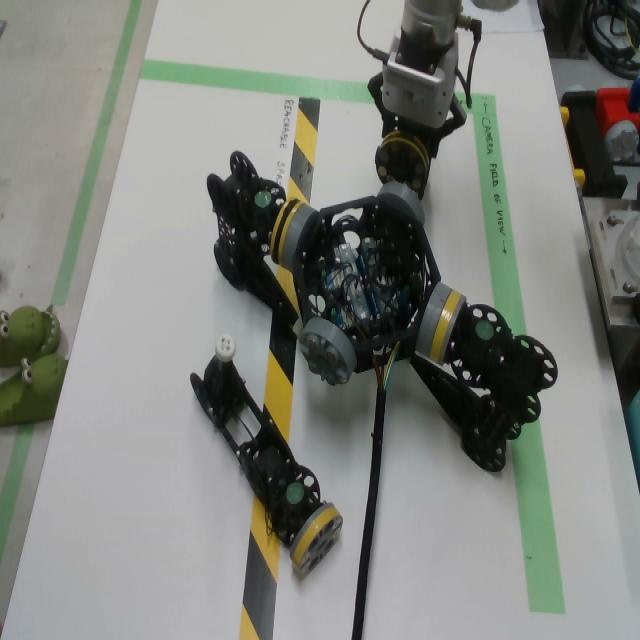body: (293, 196, 441, 375)
body_connector: (299, 317, 356, 387), (415, 283, 452, 356), (281, 204, 318, 273), (377, 181, 426, 225)
gripper: (368, 73, 467, 159)
leg: (189, 331, 344, 580), (408, 292, 558, 475), (207, 151, 303, 335), (374, 115, 433, 201)
leg_connector: (290, 503, 344, 579), (375, 131, 430, 201), (430, 291, 466, 365), (270, 196, 301, 265)
leg_marker: (286, 483, 304, 503), (476, 321, 493, 340), (255, 192, 271, 208)
